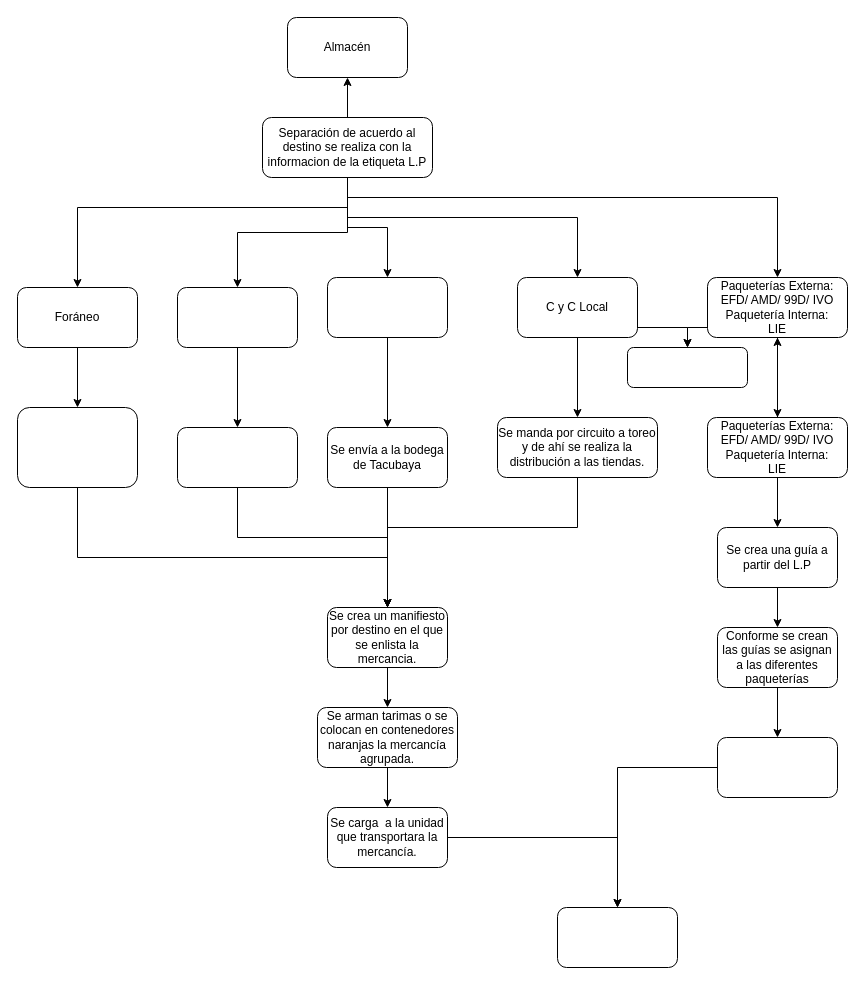
This 865x985 diagram has some shape labels left out. Here are the shapes that lost their labels. From the top down, the centre of each, then its label:
the point at 237,317: C y C Foráneo
the point at 387,307: Local
the point at 687,367: Entrega mismo día o día siguiente.
the point at 77,447: Se manda a la bodega de Tultitlán. Envíos fuera de la CDMX o Estado de mexico
the point at 237,457: Se manda manifestado hacia el modulo de Click and Collect
the point at 777,767: Se entrega la mercancía en una bolsa plástica a paquetería
the point at 617,937: Se realiza un seguimiento de los paquetes hasta la entrega al cliente
